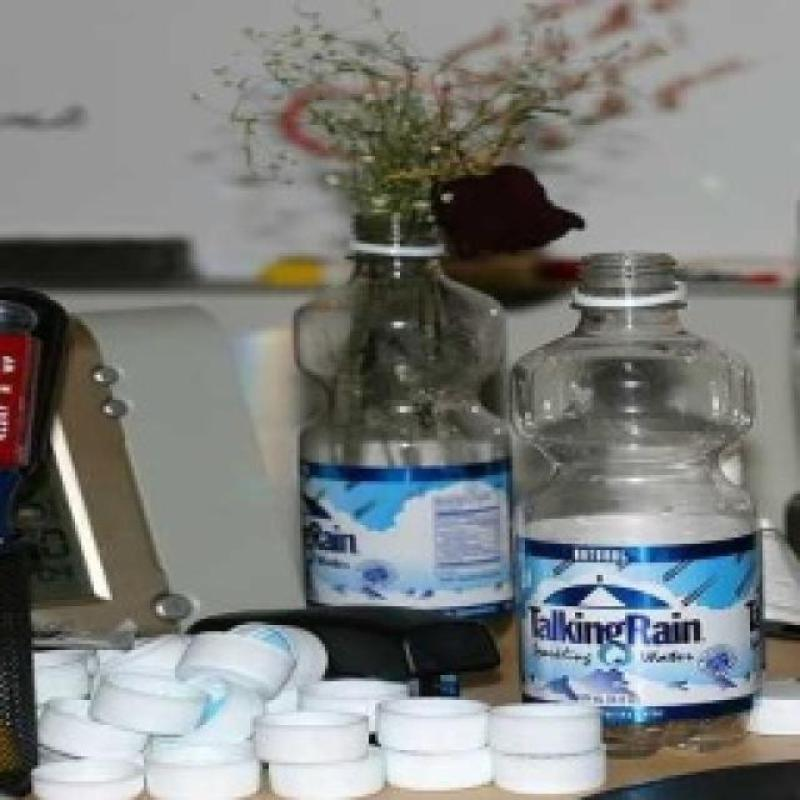botella: (508, 250, 758, 756), (294, 209, 504, 710)
